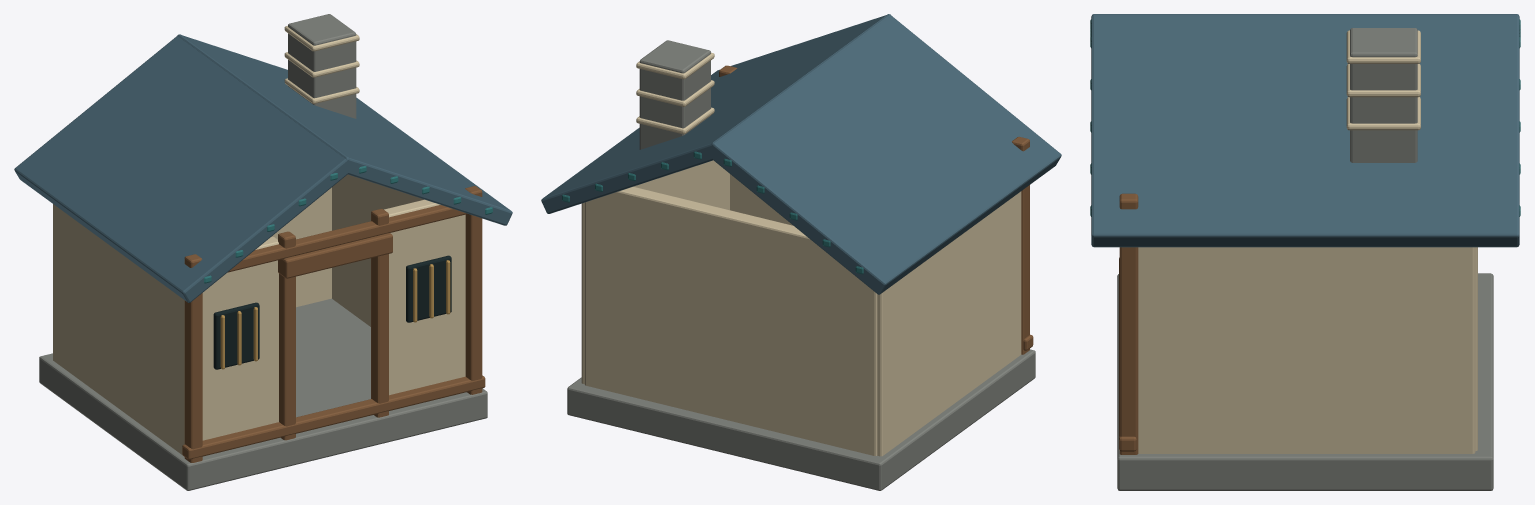
File: village_house.glb
3 renders of one model, left to right at view 1: azimuth 30°, elevation 25°; view 2: azimuth 150°, elevation 25°; view 3: azimuth 270°, elevation 25°, orthographic. The views are drawn at different scales.
Parts seen in each view (by area): view 1: RoofSlope, GableWall, StoneFoundation, TimberPost, Window, WindowMullion, TileCourse; view 2: GableWall, RoofSlope, StoneFoundation, TimberPost, TileCourse; view 3: RoofSlope, GableWall, StoneFoundation, TimberPost.
Part boxes in pixels (x1,y1,x2,y2): RoofSlope: [14, 34, 512, 302]; GableWall: [53, 26, 465, 455]; StoneFoundation: [39, 14, 487, 490]; TimberPost: [182, 186, 485, 462]; Window: [213, 255, 451, 369]; WindowMullion: [220, 260, 450, 369]; TileCourse: [204, 166, 492, 283]; GableWall: [581, 52, 1021, 456]; RoofSlope: [541, 14, 1061, 294]; StoneFoundation: [567, 40, 1035, 490]; TimberPost: [719, 65, 1033, 354]; TileCourse: [562, 151, 863, 274]; RoofSlope: [1091, 14, 1519, 247]; GableWall: [1138, 30, 1477, 453]; StoneFoundation: [1117, 28, 1493, 490]; TimberPost: [1119, 193, 1138, 454].
Bounding box in the file's own units: 4.6 × 4.37 × 4.12.
